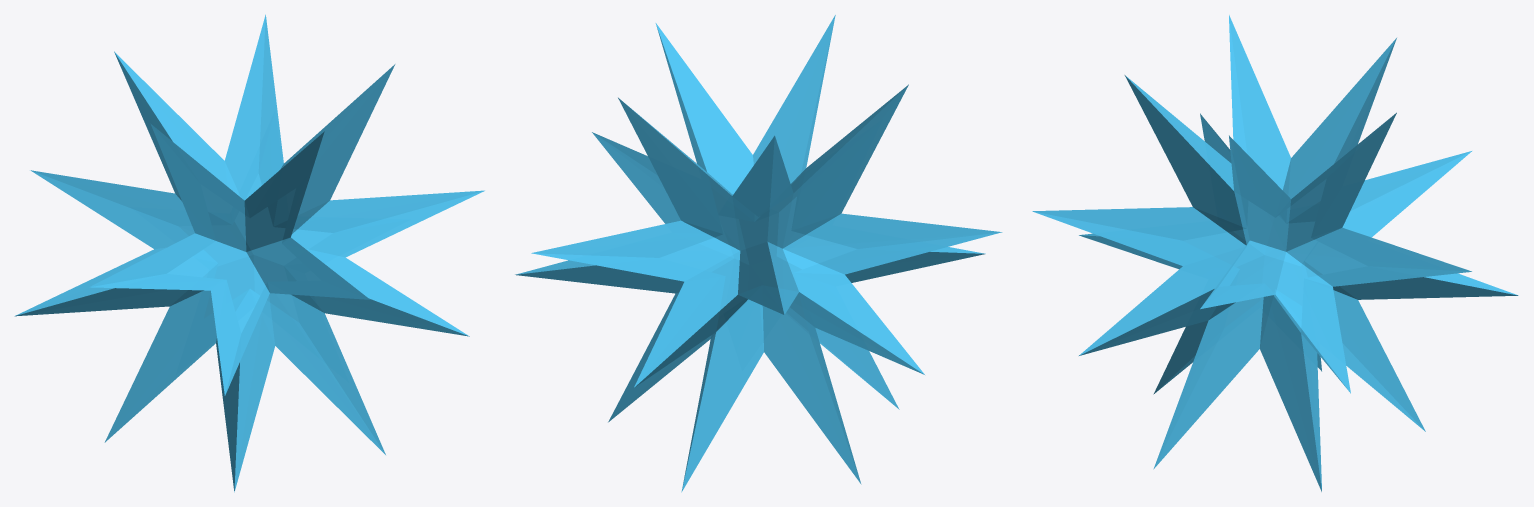
The model's file is dode_kites.obj.
3 views of the same model, side by side, from view 1: azimuth 30°, elevation 25°; view 2: azimuth 150°, elevation 25°; view 3: azimuth 270°, elevation 25° (orthographic). The views are drawn at different scales.
Bounding box in the file's own units: 11.24 × 9.56 × 11.82.
